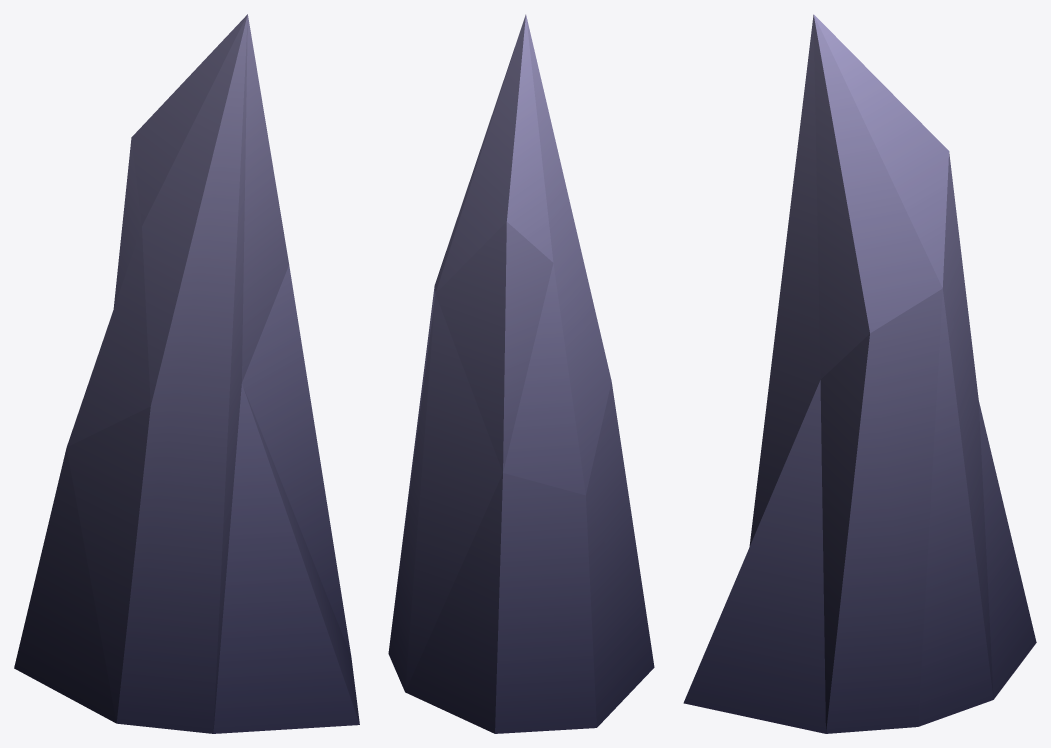
File: BigRock_Sanctuary_1.fbx
3 renders of one model, left to right at view 1: azimuth 30°, elevation 25°; view 2: azimuth 150°, elevation 25°; view 3: azimuth 270°, elevation 25°, orthographic. The views are drawn at different scales.
Visible parts, largest first — view 1: BigRock_1.002; view 2: BigRock_1.002; view 3: BigRock_1.002.
Part boxes in pixels (bbox=[...]): BigRock_1.002: bbox=[14, 14, 359, 733]; BigRock_1.002: bbox=[388, 14, 654, 733]; BigRock_1.002: bbox=[683, 14, 1036, 733].
Size of the model in its own units: 5050 by 12279 by 5895.
1 material, 1 textured.
